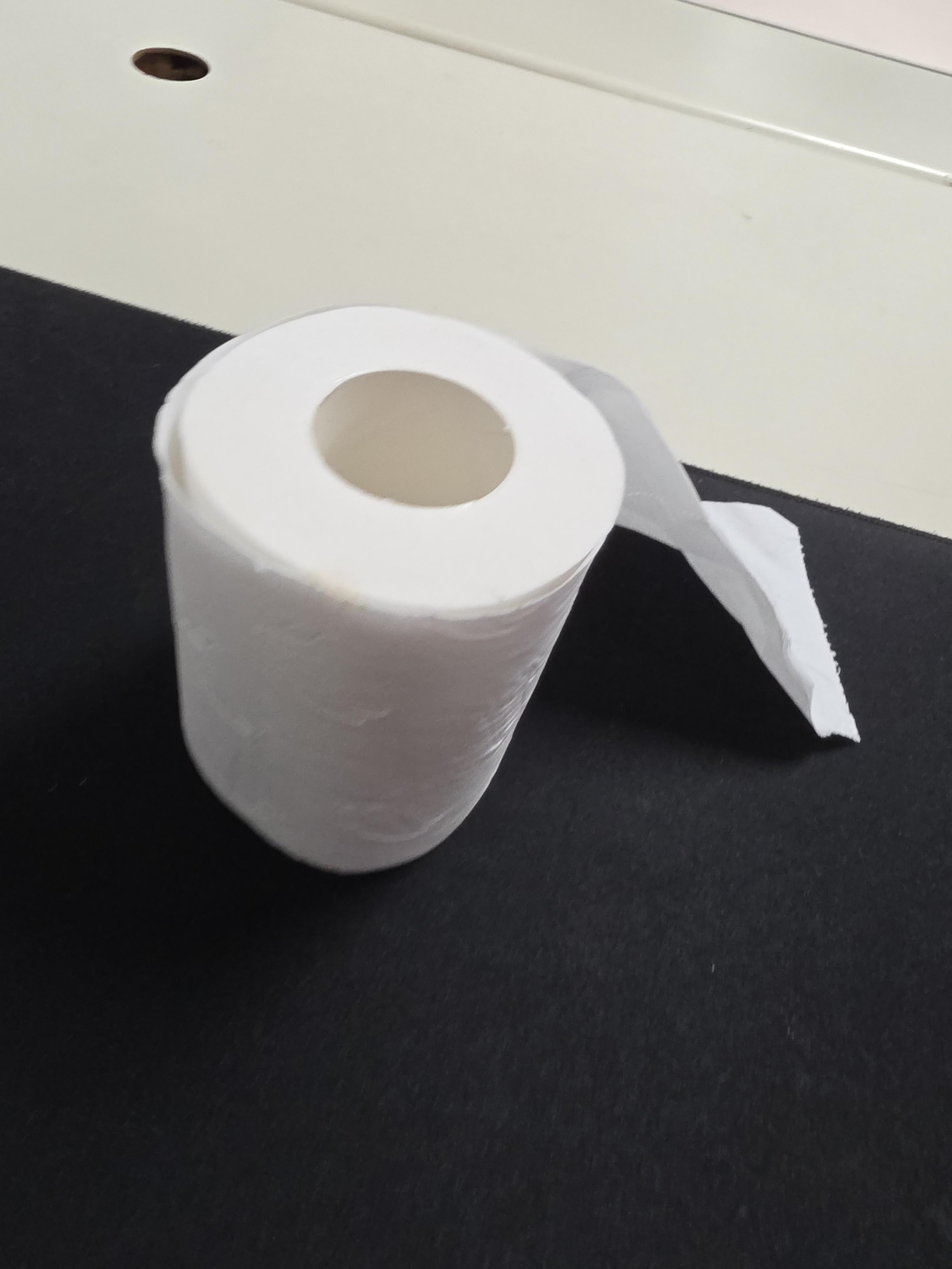tissue: (152, 304, 862, 877)
